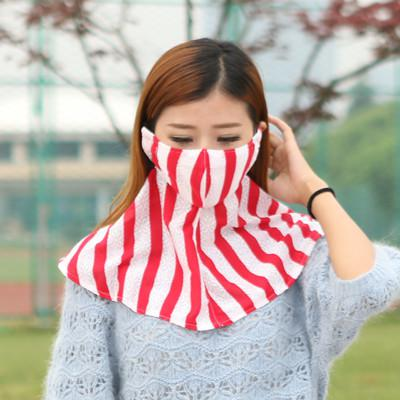OK: (154, 114, 261, 208)
